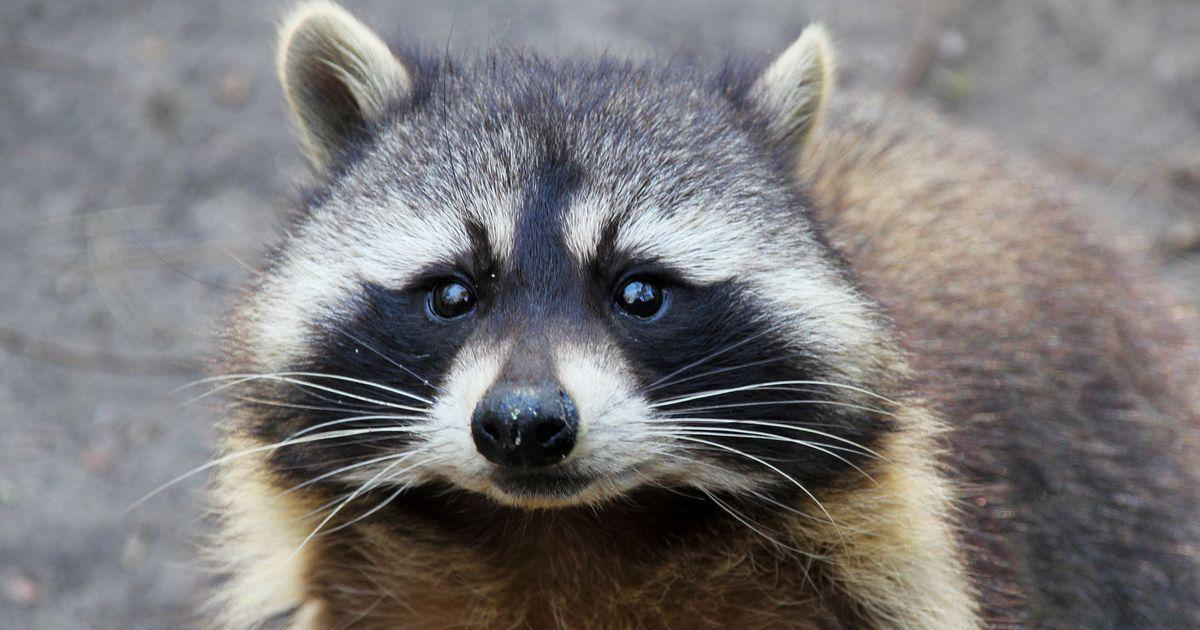raccoon: (206, 0, 1200, 630)
